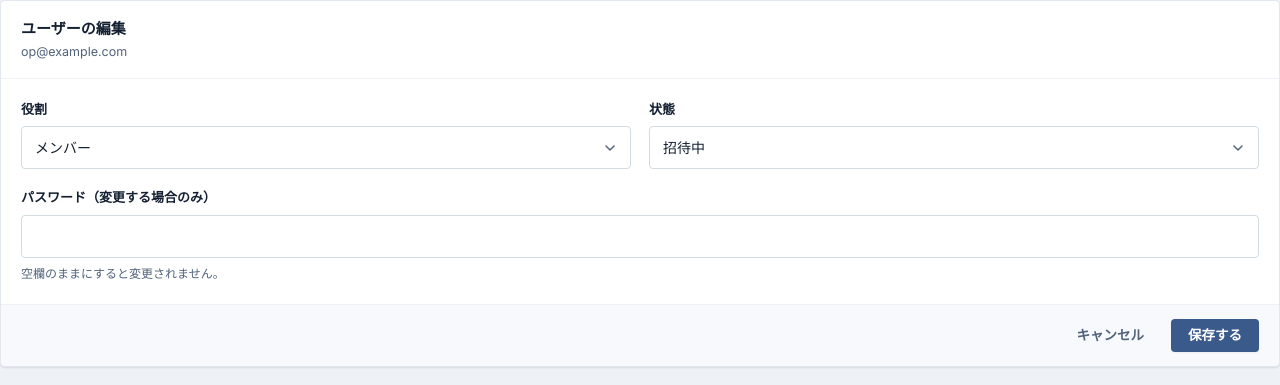
Test: EditUserForm › rejects a short new password
Type "short" into the password field labelled "パスワード（変更する場合のみ）" at (640, 236), box [21,215,1259,258]
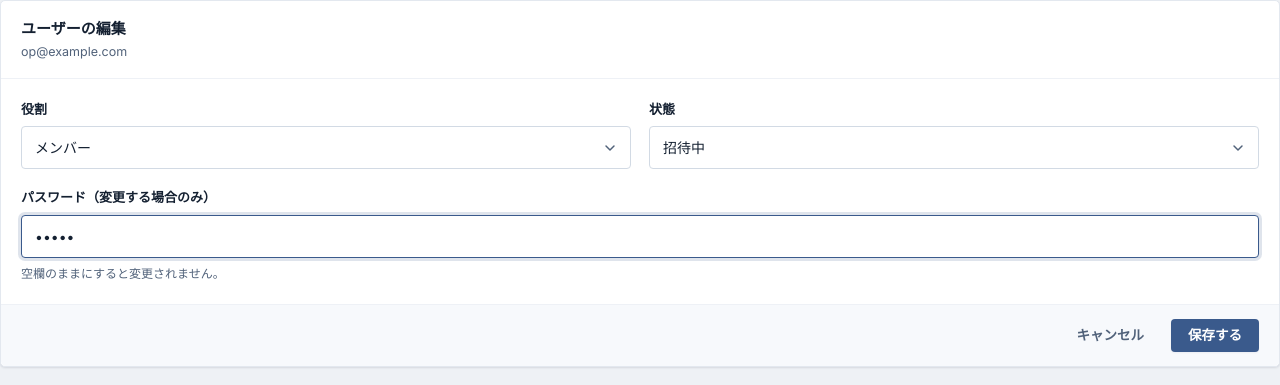
Click the button with test id "user-edit-submit" at (1215, 336), box [1171,319,1259,352]
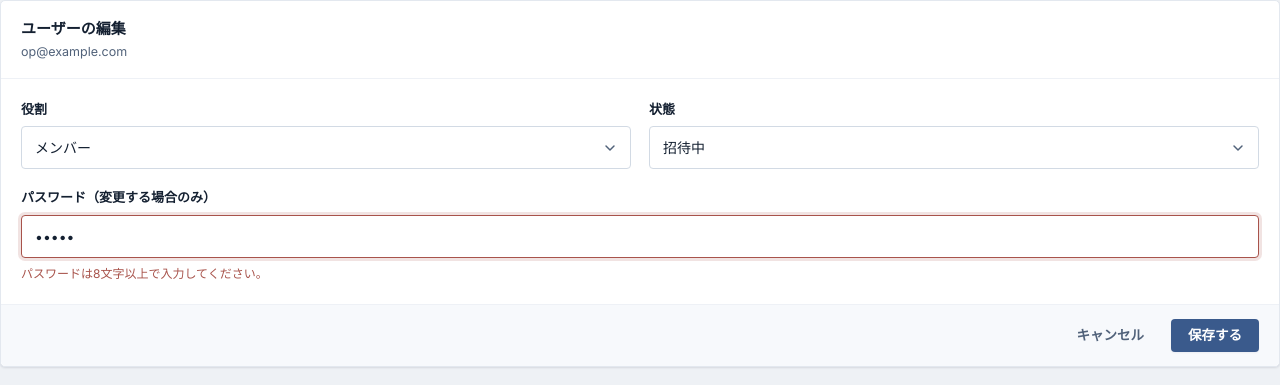
Expected: the text "パスワードは8文字以上で入力してください。" is shown, [21,266,268,281]
